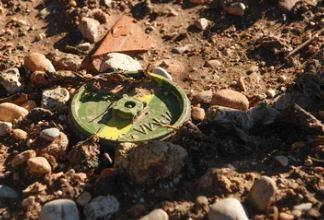pmn: (67, 68, 194, 152)
